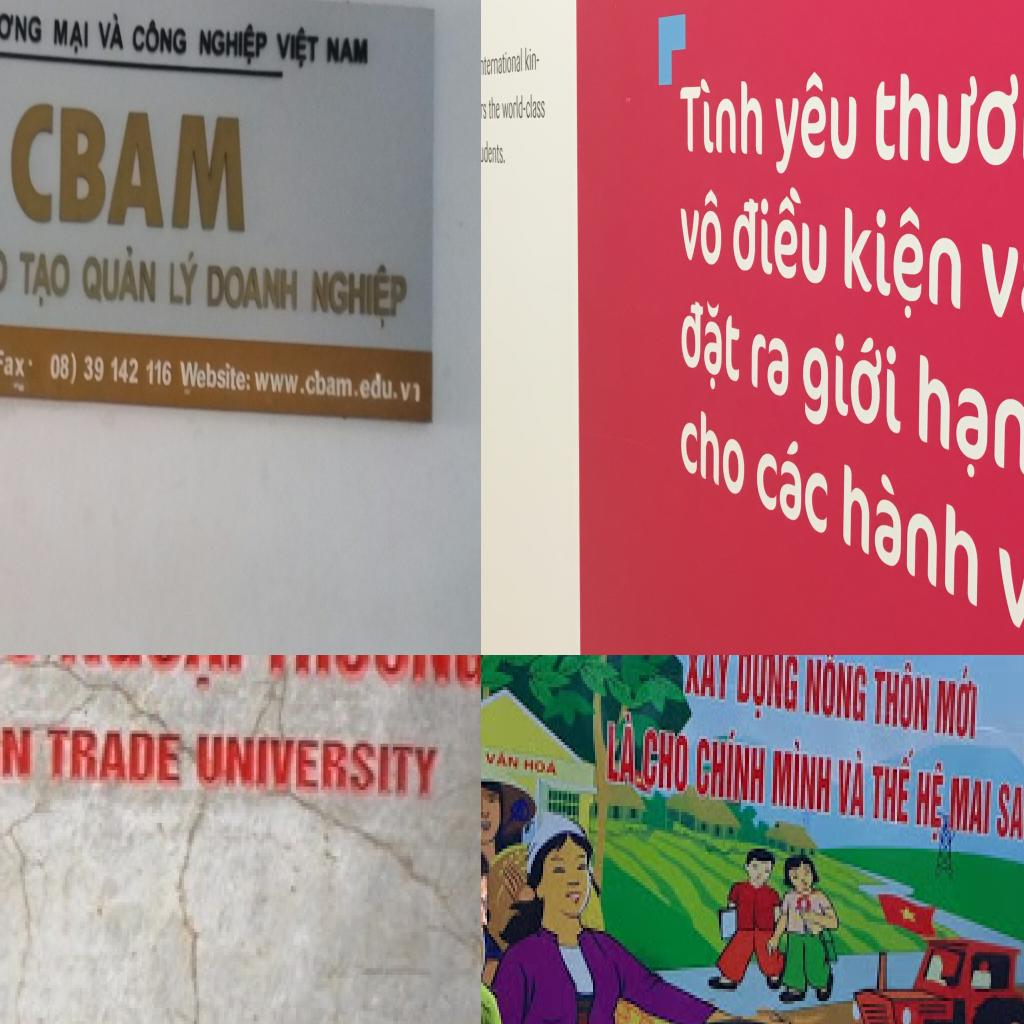text: (8, 98, 248, 237), (839, 454, 987, 614), (870, 68, 1024, 197), (838, 196, 968, 328), (912, 347, 1024, 499), (788, 317, 904, 447), (730, 185, 830, 290), (42, 724, 186, 796), (769, 68, 859, 180), (753, 424, 833, 543), (264, 655, 481, 697), (676, 402, 749, 509), (310, 256, 410, 334), (674, 289, 743, 399), (679, 72, 765, 160), (59, 655, 251, 694), (697, 721, 769, 812), (769, 733, 835, 818), (976, 214, 1024, 327), (80, 239, 158, 308), (803, 655, 873, 729), (49, 347, 173, 388), (871, 660, 933, 739), (204, 263, 300, 314), (735, 655, 803, 726), (871, 742, 919, 830), (933, 663, 983, 745), (678, 184, 726, 269), (994, 520, 1024, 652), (643, 721, 691, 800), (16, 246, 72, 312), (947, 766, 995, 842), (747, 327, 792, 401), (198, 22, 270, 68), (603, 705, 639, 797), (913, 757, 947, 852), (835, 745, 869, 827), (683, 655, 737, 705), (178, 358, 252, 394), (132, 15, 188, 60), (168, 246, 202, 308), (274, 26, 320, 71), (0, 6, 43, 45), (52, 16, 90, 58), (325, 35, 370, 67), (96, 12, 126, 53), (481, 47, 523, 76), (485, 748, 523, 776), (523, 754, 561, 782), (0, 344, 26, 378), (481, 137, 507, 166), (501, 94, 526, 120), (526, 94, 546, 120), (524, 45, 540, 72), (488, 94, 500, 120), (481, 95, 487, 119)
